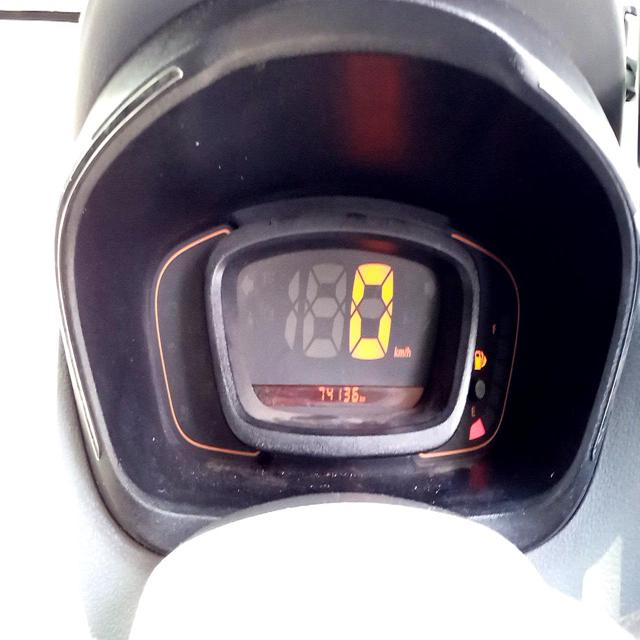odometer: (316, 386, 361, 406)
